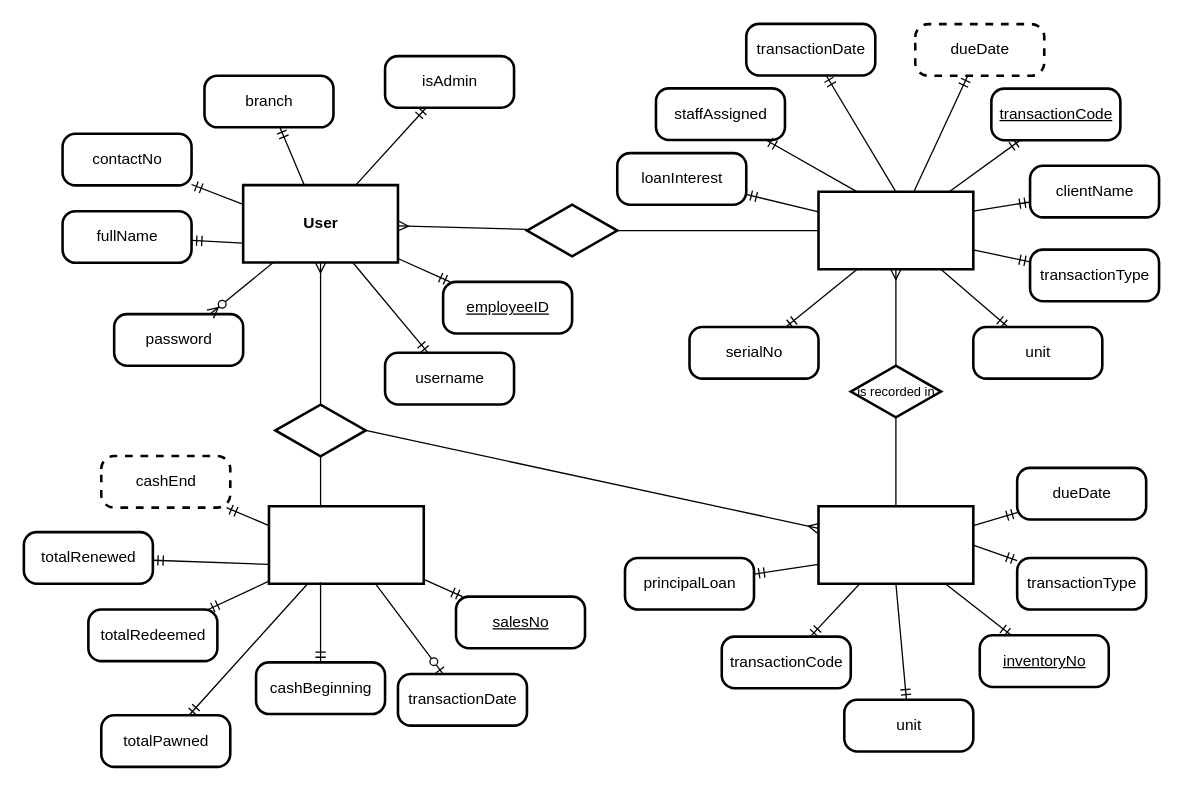
Some shapes in this 1182 by 789 pixel diagram are drawn without their labels. Each missing label, with the box of its shape:
accepts: (525, 203, 618, 257)
Inventory: (817, 504, 974, 584)
records: (273, 403, 366, 457)
Sales: (267, 504, 424, 584)
Transaction: (817, 190, 974, 270)
